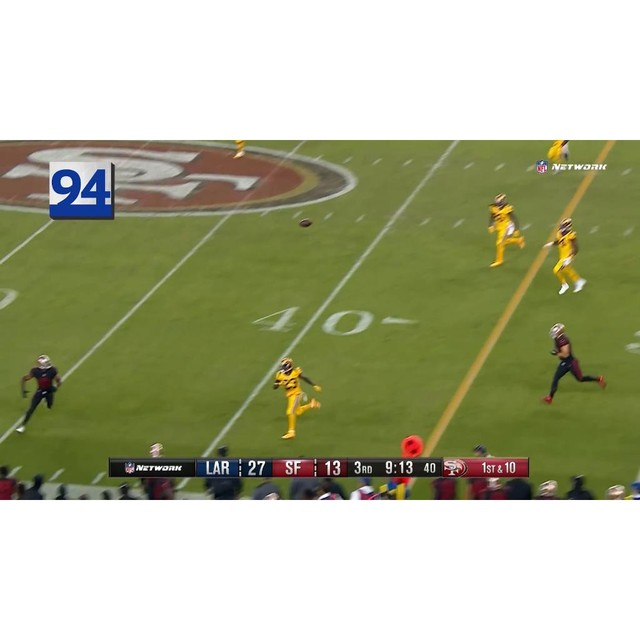american-football-player: (542, 322, 604, 404), (272, 358, 322, 439), (14, 355, 62, 434), (542, 218, 588, 295), (487, 193, 527, 267)
